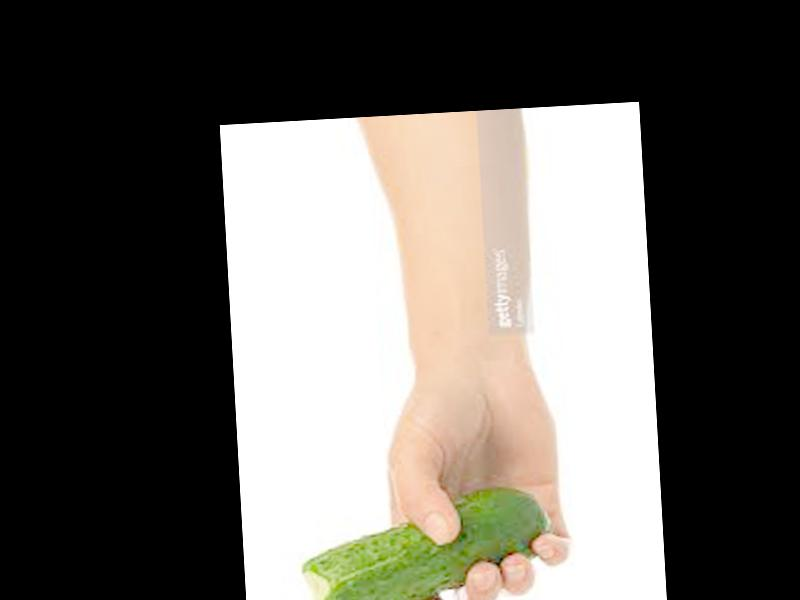Cucumber: (298, 485, 553, 600)
